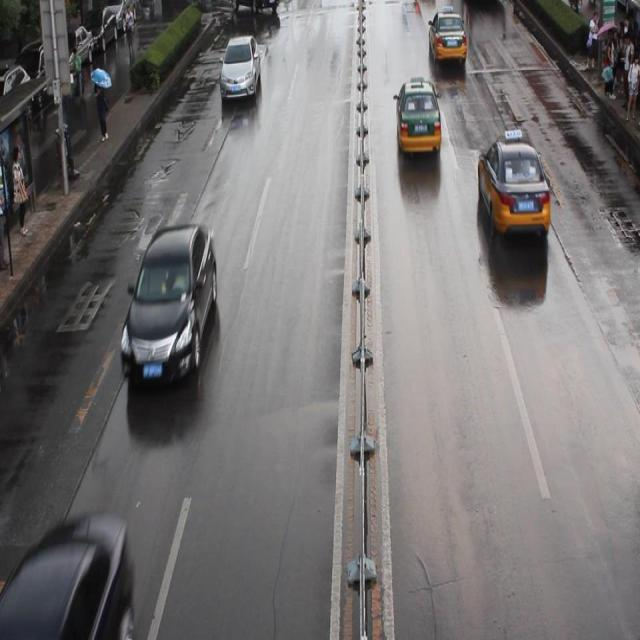car: (0, 507, 134, 640), (121, 222, 217, 386), (477, 136, 549, 235), (394, 77, 440, 156), (219, 35, 261, 100), (427, 10, 467, 60)
